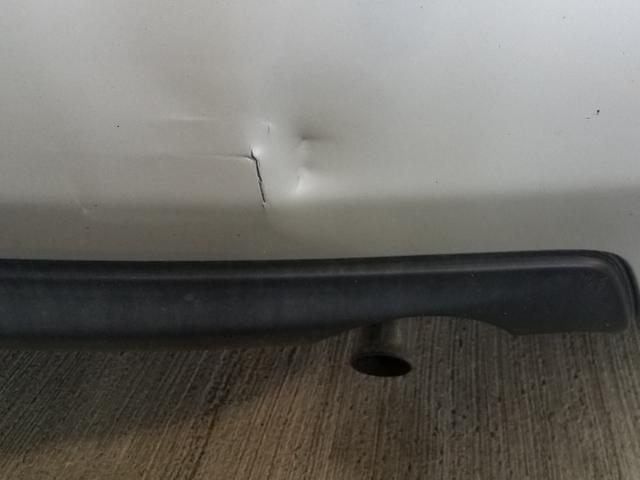Bumper: (158, 98, 390, 245)
